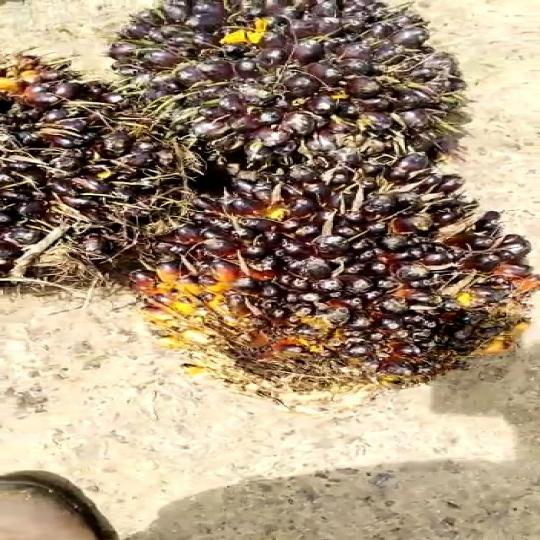mentah: (163, 184, 508, 420), (81, 0, 474, 178), (0, 53, 206, 287)
